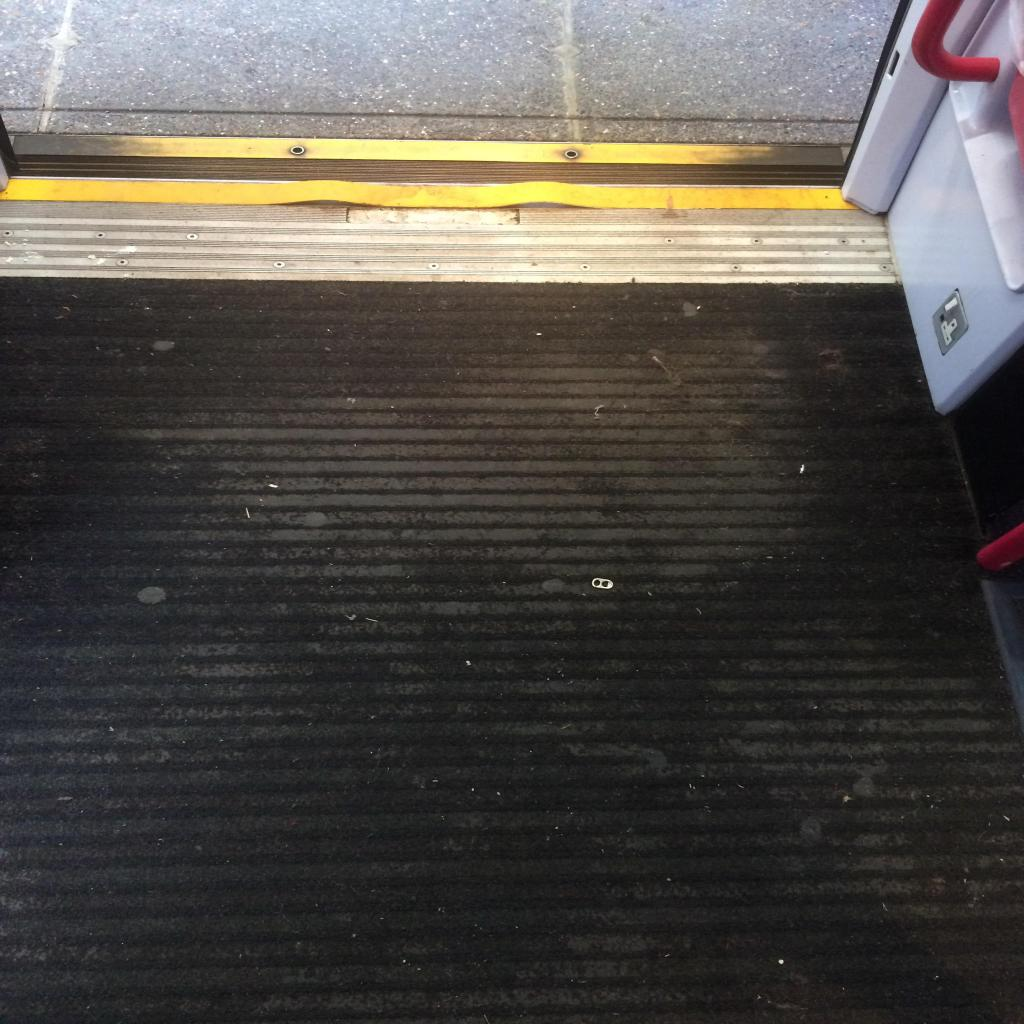Pop tab: (592, 578, 614, 589)
